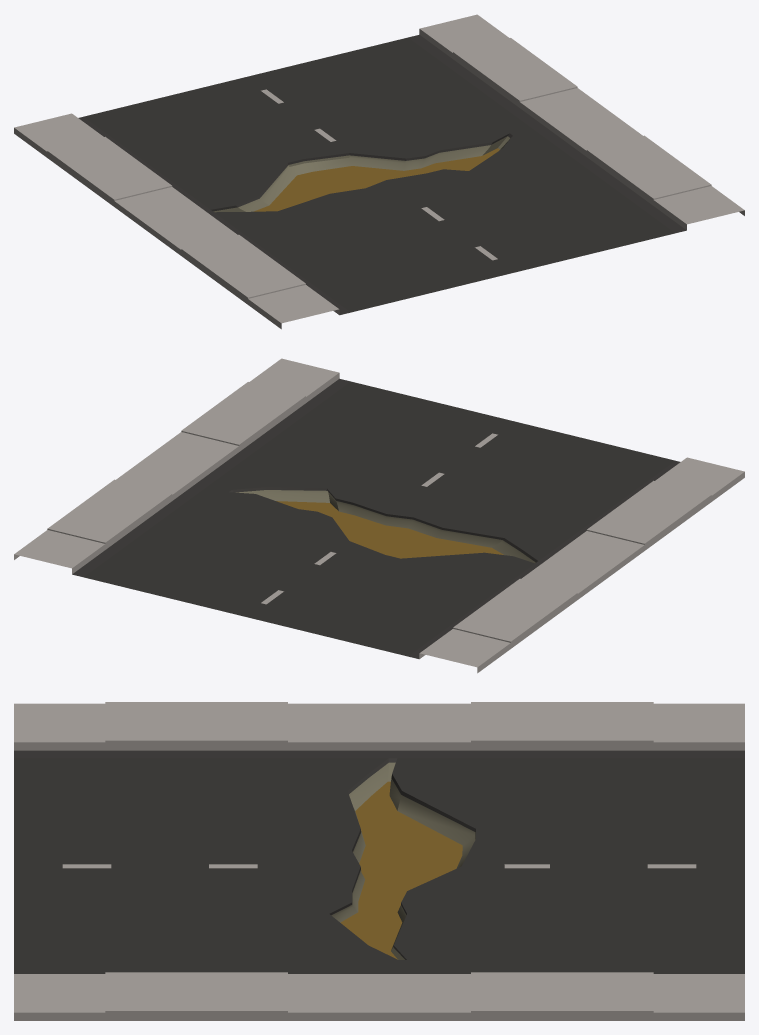
Rendered from street-straight-crack1.glb.
3 views of the same model, one above another, from view 1: azimuth 30°, elevation 25°; view 2: azimuth 150°, elevation 25°; view 3: azimuth 270°, elevation 25° (orthographic). The views are drawn at different scales.
Parts seen in each view (by area): view 1: Street_Straight_Crack1; view 2: Street_Straight_Crack1; view 3: Street_Straight_Crack1.
Boxes of the visible parts, bbox=[...] form: Street_Straight_Crack1: bbox=[14, 14, 744, 329]; Street_Straight_Crack1: bbox=[14, 358, 744, 673]; Street_Straight_Crack1: bbox=[14, 702, 744, 1020].
Bounding box in the file's own units: 8 × 0.2852 × 8.
